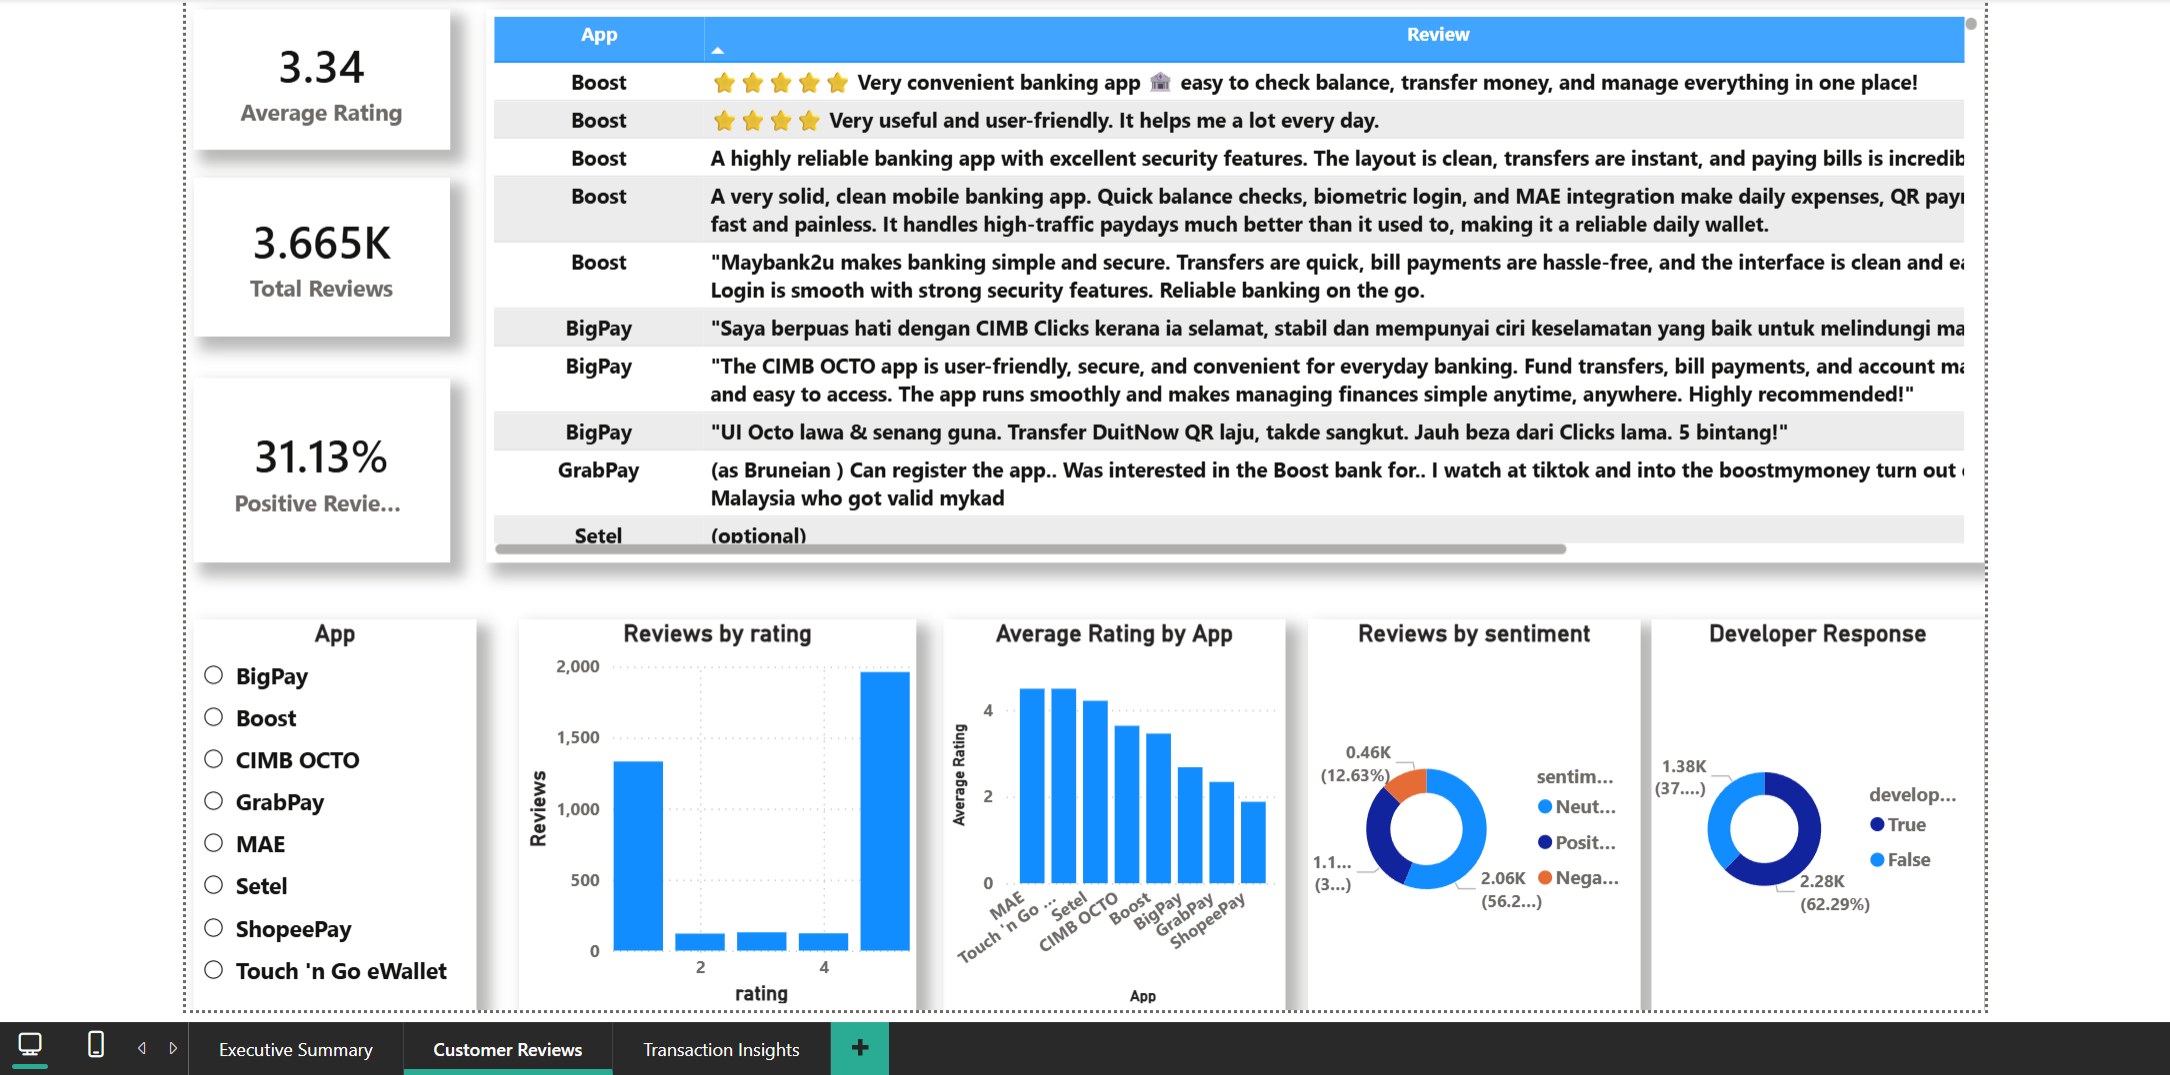

The dashboard page shown, as its layout file describes it:
{"tool":"powerbi","page":{"name":"Customer  Reviews","canvas":[1280,720],"ordinal":1},"visuals":[{"type":"cardVisual","fields":{"Data":["Avg(public reviews.rating)"]},"box":[5.7,8,175.3,100.2],"z":0},{"type":"cardVisual","fields":{"Data":["CountNonNull(public reviews.review_id)"]},"box":[5.7,127.5,175.3,112.7],"z":1000},{"type":"clusteredColumnChart","fields":{"Category":["public apps.app_name"],"Y":["Avg(public reviews.rating)"]},"box":[538.9,441.8,243.3,278.5],"z":2000},{"type":"clusteredColumnChart","fields":{"Category":["public reviews.rating"],"Y":["CountNonNull(public reviews.review_id)"]},"box":[236.9,441.8,282.8,278.5],"z":3000},{"type":"donutChart","fields":{"Category":["public reviews.sentiment"],"Y":["CountNonNull(public reviews.review_id)"]},"box":[798.3,441.8,236.9,278.5],"z":4000},{"type":"donutChart","title":"Developer Response","fields":{"Category":["public reviews.developer_reply"],"Y":["CountNonNull(public reviews.review_id)"]},"box":[1042.7,441.8,236.9,278.5],"z":5000},{"type":"tableEx","fields":{"Values":["public apps.app_name","public reviews.review_text","public reviews.sentiment","public reviews.review_date.Variation.Date Hierarchy.Year","public reviews.review_date.Variation.Date Hierarchy.Month","public reviews.review_date.Variation.Date Hierarchy.Day"]},"box":[213.4,7.5,1066.1,393.8],"z":6000},{"type":"listSlicer","fields":{"Values":["public apps.app_name"]},"box":[5.7,441.6,201.4,278.8],"z":7000},{"type":"cardVisual","fields":{"Data":["public reviews.Positive Reviews %"]},"box":[5.3,270,175,131.3],"z":8000}]}

Visuals, with their boxes on the page's 1280x720 design canvas (x1, y1, x2, y2). These are canvas units, not pixel positions in the 2170x1075 screenshot, which may show the page scaled, cropped or inside an application window:
cardVisual - Avg(public reviews.rating): locate(6, 8, 181, 108)
cardVisual - CountNonNull(public reviews.review_id): locate(6, 128, 181, 240)
clusteredColumnChart - public apps.app_name x Avg(public reviews.rating): locate(539, 442, 782, 720)
clusteredColumnChart - public reviews.rating x CountNonNull(public reviews.review_id): locate(237, 442, 520, 720)
donutChart - public reviews.sentiment x CountNonNull(public reviews.review_id): locate(798, 442, 1035, 720)
"Developer Response" donutChart: locate(1043, 442, 1280, 720)
tableEx - public apps.app_name x public reviews.review_text: locate(213, 8, 1280, 401)
listSlicer - public apps.app_name: locate(6, 442, 207, 720)
cardVisual - public reviews.Positive Reviews %: locate(5, 270, 180, 401)
